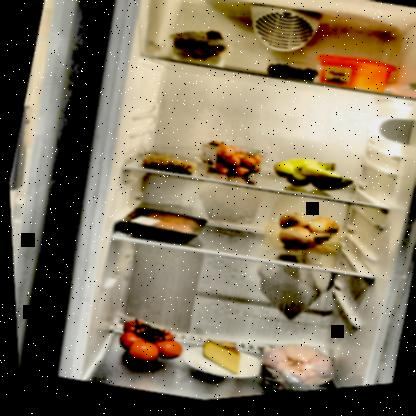banana: (268, 152, 356, 209)
beef: (132, 207, 193, 243)
blueberries: (263, 62, 325, 93)
butter: (309, 49, 400, 108)
cheese: (192, 335, 245, 385)
chicken: (245, 336, 347, 399)
mushrooms: (159, 20, 240, 79)
onion: (266, 208, 342, 267)
shrimp: (139, 148, 197, 183)
strawberries: (193, 137, 266, 188)
tomato: (108, 312, 189, 378)
